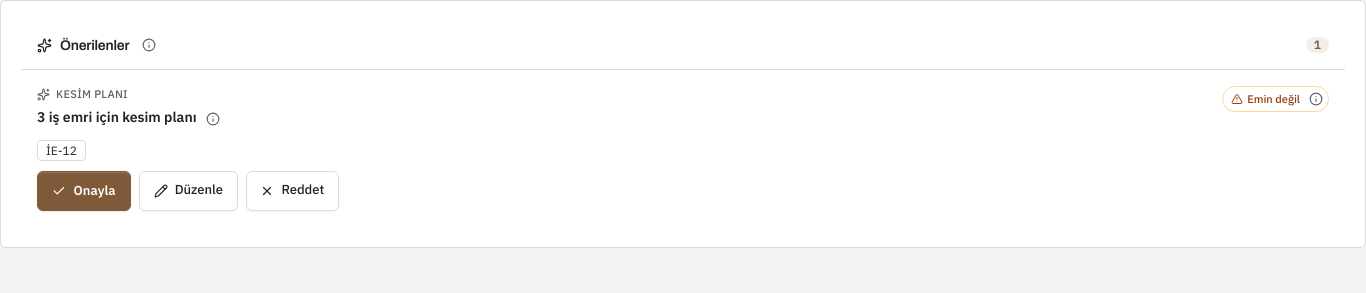
Test: keeps the suggestion with the server reason when approval is refused
Click the button "Onayla" at (84, 190), box x1=37 y1=170 x2=131 y2=210
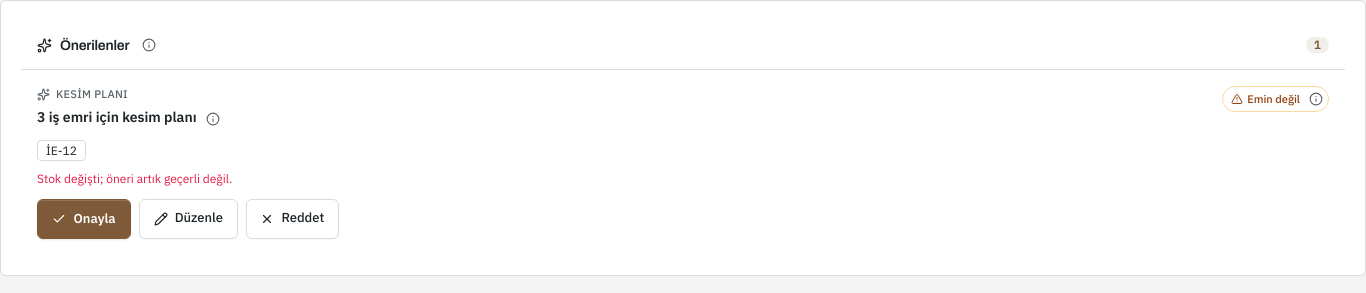
Result: the message shows "Stok değişti" at x1=37 y1=170 x2=232 y2=186
